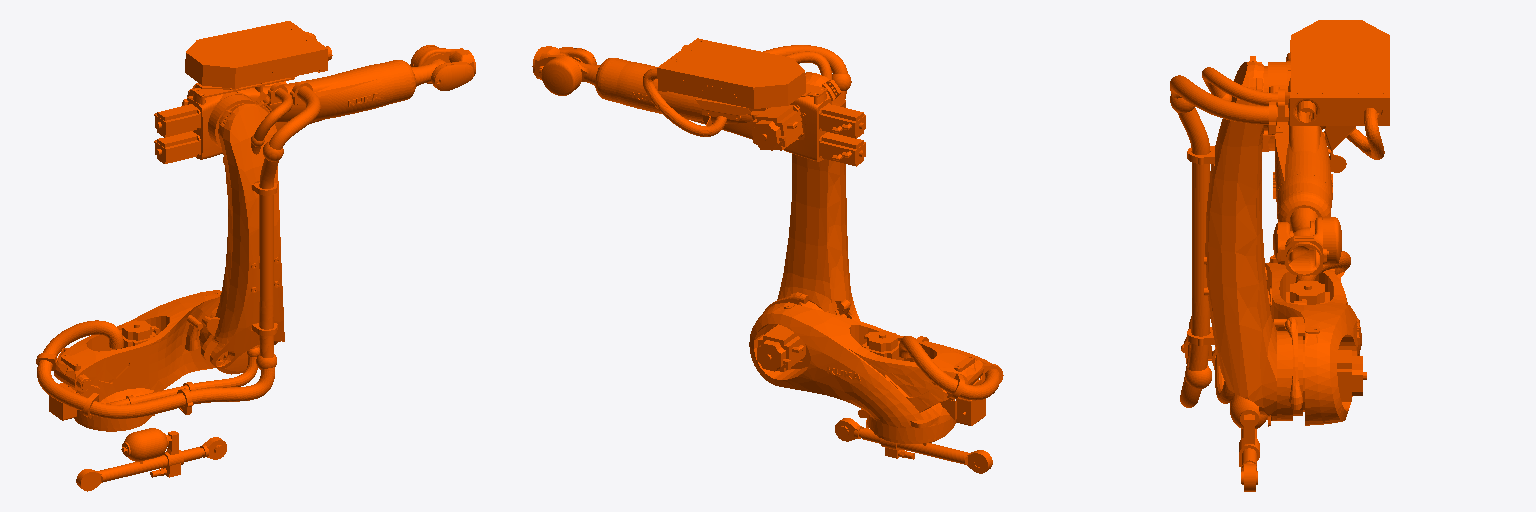
The robot description file, URDF, robot "kuka_kr120_r3500_prime_k":
<?xml version="1.0"?>
<robot name="kuka_kr120_r3500_prime_k">
  <material name="kuka_orange"><color rgba="1.00 0.40 0.00 1.0"/></material>
  <material name="kuka_dark_gray"><color rgba="0.20 0.20 0.20 1.0"/></material>

  <link name="base_link">
    <inertial>
      <origin xyz="-0.188277 0.000153 0.138686" rpy="0 0 0"/>
      <mass value="213.333"/>
      <inertia ixx="6.946073" ixy="0.087961" ixz="1.353677" iyy="11.015422" iyz="-0.030841" izz="15.103490"/>
    </inertial>
    <visual>
      <origin xyz="0 0 0" rpy="0 0 0"/>
      <geometry><mesh filename="meshes/visual/base_link.stl"/></geometry>
      <material name="kuka_dark_gray"/>
    </visual>
    <collision>
      <origin xyz="0 0 0" rpy="0 0 0"/>
      <geometry><mesh filename="meshes/visual/base_link.stl"/></geometry>
    </collision>
  </link>

  <link name="link_1">
    <inertial>
      <origin xyz="0.190417 -0.074173 0.467066" rpy="0 0 0"/>
      <mass value="265.900"/>
      <inertia ixx="13.161221" ixy="-1.811820" ixz="-2.171812" iyy="27.951145" iyz="-2.447350" izz="27.768244"/>
    </inertial>
    <visual>
      <origin xyz="0 0 0" rpy="0 0 0"/>
      <geometry><mesh filename="meshes/visual/link_1.stl"/></geometry>
      <material name="kuka_orange"/>
    </visual>
    <collision>
      <origin xyz="0 0 0" rpy="0 0 0"/>
      <geometry><mesh filename="meshes/visual/link_1.stl"/></geometry>
    </collision>
  </link>

  <link name="link_2">
    <inertial>
      <origin xyz="0.001358 -0.275709 0.599331" rpy="0 0 0"/>
      <mass value="819.500"/>
      <inertia ixx="132.659316" ixy="-0.120738" ixz="-0.656177" iyy="129.180622" iyz="8.520620" izz="14.825736"/>
    </inertial>
    <visual>
      <origin xyz="0 0 0" rpy="0 0 0"/>
      <geometry><mesh filename="meshes/visual/link_2.stl"/></geometry>
      <material name="kuka_orange"/>
    </visual>
    <collision>
      <origin xyz="0 0 0" rpy="0 0 0"/>
      <geometry><mesh filename="meshes/visual/link_2.stl"/></geometry>
    </collision>
  </link>

  <link name="link_3">
    <inertial>
      <origin xyz="0.292983 0.020920 0.074395" rpy="0 0 0"/>
      <mass value="621.600"/>
      <inertia ixx="20.368944" ixy="-2.321178" ixz="0.541744" iyy="60.209995" iyz="-1.906590" izz="65.682881"/>
    </inertial>
    <visual>
      <origin xyz="0 0 0" rpy="0 0 0"/>
      <geometry><mesh filename="meshes/visual/link_3.stl"/></geometry>
      <material name="kuka_orange"/>
    </visual>
    <collision>
      <origin xyz="0 0 0" rpy="0 0 0"/>
      <geometry><mesh filename="meshes/visual/link_3.stl"/></geometry>
    </collision>
  </link>

  <link name="link_4">
    <inertial>
      <origin xyz="-0.112935 0.005035 0.000000" rpy="0 0 0"/>
      <mass value="70.500"/>
      <inertia ixx="0.244458" ixy="-0.028915" ixz="0.000006" iyy="0.677367" iyz="0.000302" izz="0.675506"/>
    </inertial>
    <visual>
      <origin xyz="0 0 0" rpy="0 0 0"/>
      <geometry><mesh filename="meshes/visual/link_4.stl"/></geometry>
      <material name="kuka_orange"/>
    </visual>
    <collision>
      <origin xyz="0 0 0" rpy="0 0 0"/>
      <geometry><mesh filename="meshes/visual/link_4.stl"/></geometry>
    </collision>
  </link>

  <link name="link_5">
    <inertial>
      <origin xyz="0.040980 0.016108 -0.000063" rpy="0 0 0"/>
      <mass value="66.500"/>
      <inertia ixx="0.554826" ixy="0.033380" ixz="0.000202" iyy="0.481327" iyz="0.000393" izz="0.704614"/>
    </inertial>
    <visual>
      <origin xyz="0 0 0" rpy="0 0 0"/>
      <geometry><mesh filename="meshes/visual/link_5.stl"/></geometry>
      <material name="kuka_orange"/>
    </visual>
    <collision>
      <origin xyz="0 0 0" rpy="0 0 0"/>
      <geometry><mesh filename="meshes/visual/link_5.stl"/></geometry>
    </collision>
  </link>

  <link name="link_6">
    <inertial>
      <origin xyz="-0.006209 0.000000 -0.000608" rpy="0 0 0"/>
      <mass value="76.800"/>
      <inertia ixx="0.227156" ixy="0.000000" ixz="-0.000327" iyy="0.153669" iyz="0.000049" izz="0.152996"/>
    </inertial>
    <visual>
      <origin xyz="0 0 0" rpy="0 0 0"/>
      <geometry><mesh filename="meshes/visual/link_6.stl"/></geometry>
      <material name="kuka_dark_gray"/>
    </visual>
    <collision>
      <origin xyz="0 0 0" rpy="0 0 0"/>
      <geometry><mesh filename="meshes/visual/link_6.stl"/></geometry>
    </collision>
  </link>

  <link name="tool0"/>

  <joint name="joint_a1" type="revolute">
    <parent link="base_link"/>
    <child link="link_1"/>
    <origin xyz="0.000000 0.000000 0.000000" rpy="0 0 0"/>
    <axis xyz="0.0 0.0 -1.0"/>
    <limit lower="-3.228859" upper="3.228859" effort="9600.0" velocity="1.834634"/>
    <dynamics damping="5.0" friction="1.0"/>
  </joint>

  <joint name="joint_a2" type="revolute">
    <parent link="link_1"/>
    <child link="link_2"/>
    <origin xyz="0.750000 0.000000 0.590000" rpy="0 0 0"/>
    <axis xyz="0.0 1.0 0.0"/>
    <limit lower="-0.523599" upper="2.792527" effort="9600.0" velocity="1.863274"/>
    <dynamics damping="5.0" friction="1.0"/>
  </joint>

  <joint name="joint_a3" type="revolute">
    <parent link="link_2"/>
    <child link="link_3"/>
    <origin xyz="0.000000 0.000000 1.350000" rpy="0 0 0"/>
    <axis xyz="0.0 1.0 0.0"/>
    <limit lower="-3.665191" upper="1.134464" effort="7058.9" velocity="1.993663"/>
    <dynamics damping="5.0" friction="1.0"/>
  </joint>

  <joint name="joint_a4" type="revolute">
    <parent link="link_3"/>
    <child link="link_4"/>
    <origin xyz="1.400000 0.000000 -0.041000" rpy="0 0 0"/>
    <axis xyz="-1.0 0.0 -0.0"/>
    <limit lower="-6.108652" upper="6.108652" effort="2275.4" velocity="5.094285"/>
    <dynamics damping="5.0" friction="1.0"/>
  </joint>

  <joint name="joint_a5" type="revolute">
    <parent link="link_4"/>
    <child link="link_5"/>
    <origin xyz="0.000000 0.000000 0.000000" rpy="0 0 0"/>
    <axis xyz="0.0 1.0 0.0"/>
    <limit lower="-2.181662" upper="2.181662" effort="1375.4" velocity="4.495125"/>
    <dynamics damping="5.0" friction="1.0"/>
  </joint>

  <joint name="joint_a6" type="revolute">
    <parent link="link_5"/>
    <child link="link_6"/>
    <origin xyz="0.215000 0.000000 0.000000" rpy="0 0 0"/>
    <axis xyz="-1.0 0.0 -0.0"/>
    <limit lower="-6.108652" upper="6.108652" effort="872.4" velocity="4.957669"/>
    <dynamics damping="5.0" friction="1.0"/>
  </joint>

  <joint name="link_6-tool0" type="fixed">
    <parent link="link_6"/>
    <child link="tool0"/>
    <origin xyz="0.000000 0.000000 0.000000" rpy="0 1.57079632679 0"/>
  </joint>
</robot>

--- Facts derived from the render (not from the file) ---
3 views of the same robot in one strip: view 1: azimuth 30°, elevation 25°; view 2: azimuth 150°, elevation 25°; view 3: azimuth 270°, elevation 25° (orthographic).
Model kuka_kr120_r3500_prime_k with 8 links and 7 joints (6 revolute, 1 fixed), rooted at base_link, posed every joint at zero.
Visible links, largest first — view 1: link_1, link_3, link_2, link_5, link_4; view 2: link_1, link_3, link_2, link_5; view 3: link_2, link_3, link_1, link_5, link_4.
Link boxes in pixels (x1=…): link_1: x1=36, y1=290, x2=274, y2=491; link_3: x1=154, y1=21, x2=415, y2=163; link_2: x1=199, y1=101, x2=284, y2=374; link_5: x1=410, y1=45, x2=475, y2=90; link_4: x1=411, y1=53, x2=450, y2=86; link_1: x1=749, y1=302, x2=1003, y2=473; link_3: x1=595, y1=38, x2=865, y2=166; link_2: x1=763, y1=72, x2=859, y2=320; link_5: x1=532, y1=46, x2=596, y2=95; link_2: x1=1177, y1=56, x2=1304, y2=426; link_3: x1=1170, y1=20, x2=1389, y2=221; link_1: x1=1180, y1=251, x2=1366, y2=491; link_5: x1=1273, y1=217, x2=1341, y2=275; link_4: x1=1286, y1=206, x2=1320, y2=250.
Bounding box of the posed robot: 2.82 × 0.9725 × 2.35 m (x, y, z).
Meshes: 7 distinct files referenced, 5 mesh visuals loaded (5 binary STL); not drawn: 2 (reference not matched to a file when rendering).
